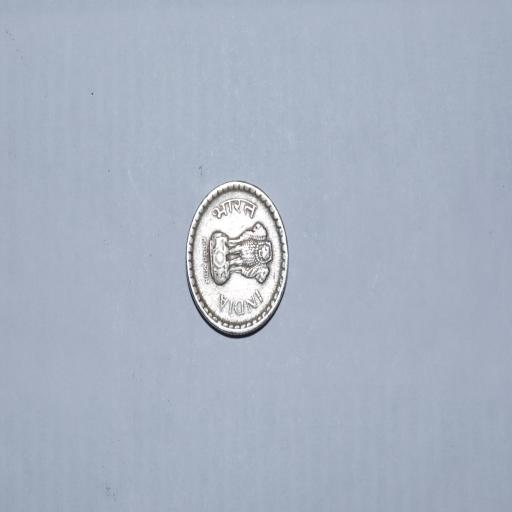rupee5: (182, 178, 292, 342)
